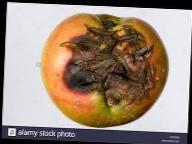rotten apple: (38, 6, 172, 129)
